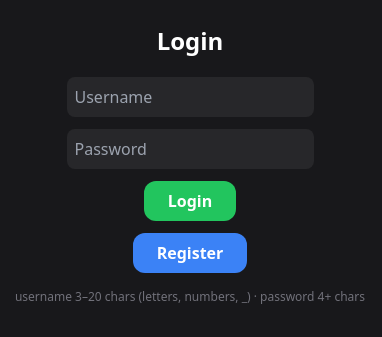
Login failure UX › shows a visible message when the request itself fails
Type "james" into the field with placeholder "Username".
click(190, 97); type("james")  # box [66,77,314,117]
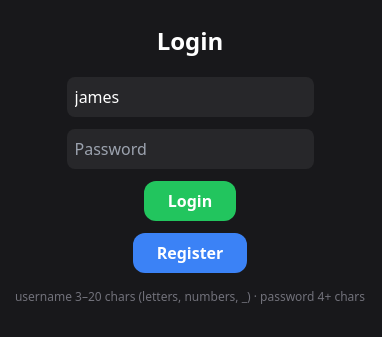
Type "123" into the password field with placeholder "Password".
click(190, 149); type("123")  # box [66,129,314,169]
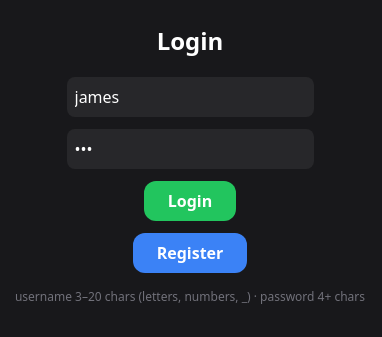
Click the button "Login".
click(190, 201)  # box [144,181,236,221]
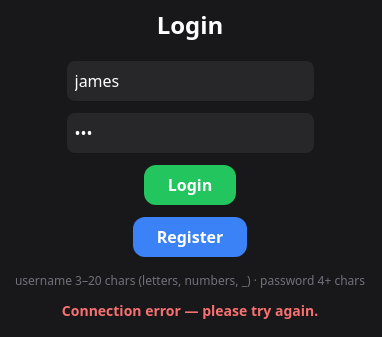
Result: the message shows "Connection error" at [62,301,318,320]
